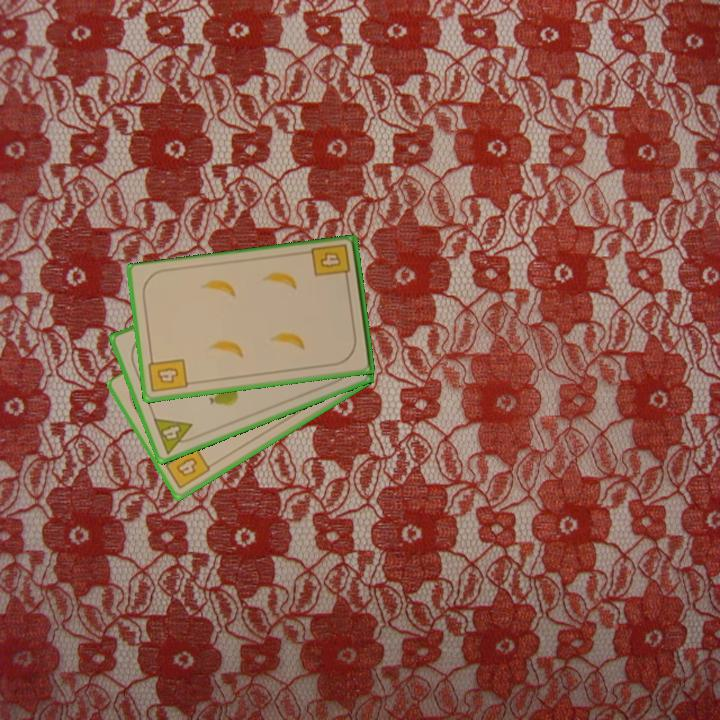4b: (160, 442, 213, 492), (308, 241, 353, 285), (145, 353, 190, 395)
4p: (150, 414, 200, 457)
